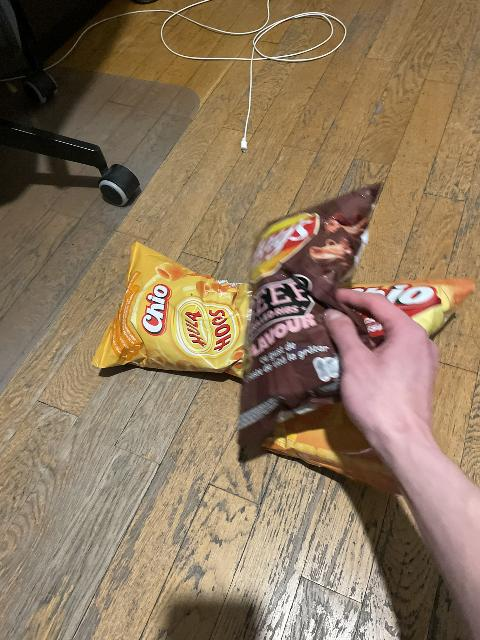Chio Cascaval 125g: (260, 279, 473, 498)
Chio Hula Hoops Cheese 70g: (92, 243, 253, 374)
Lays Beef Grilled Ribs 125g: (239, 183, 398, 456)
